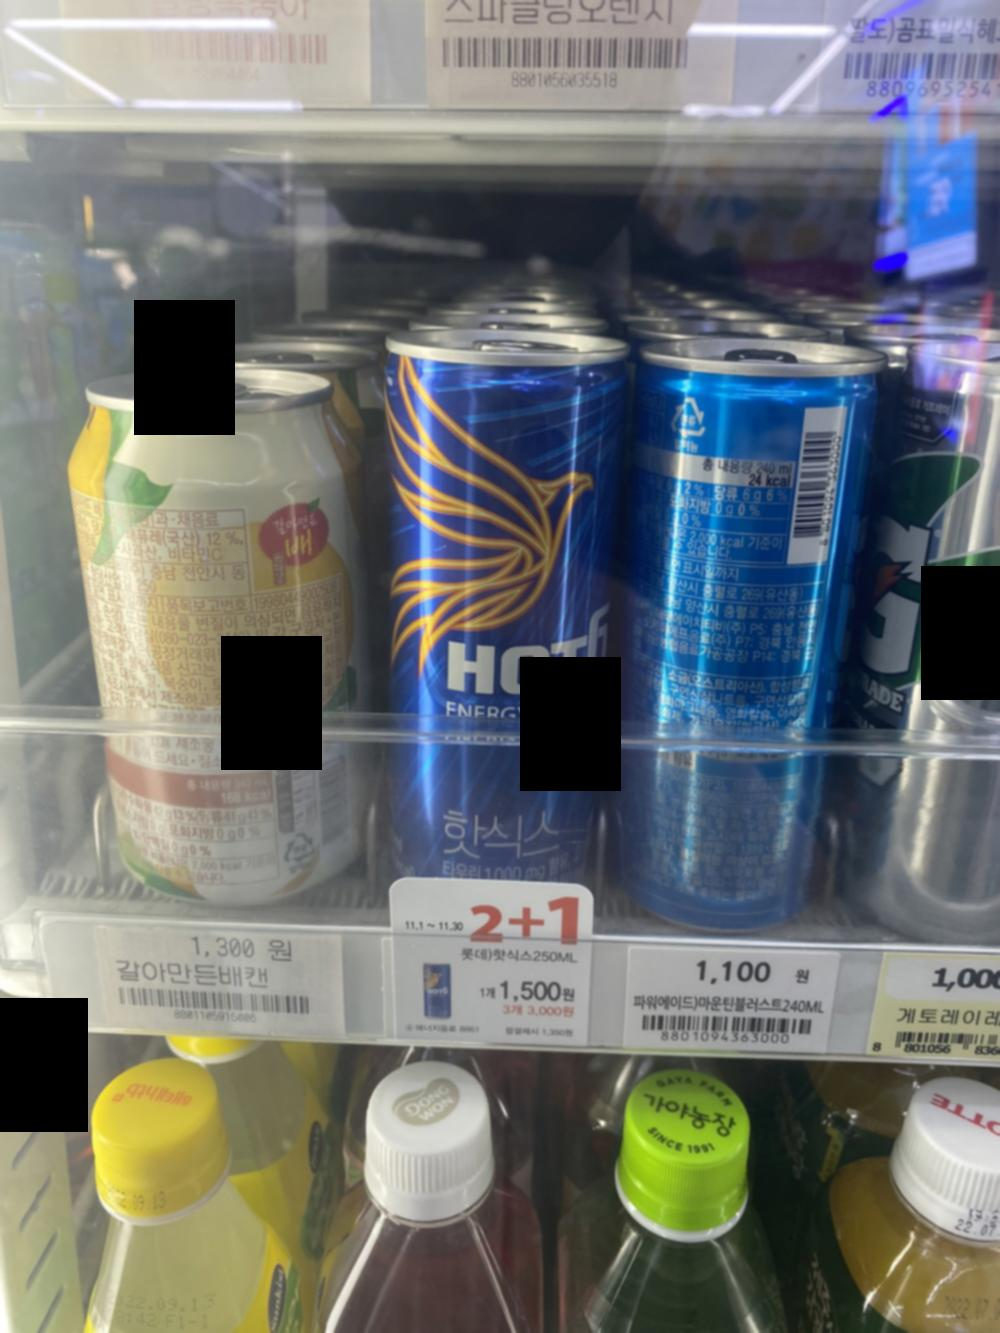hotsix_org: (375, 317, 633, 883)
